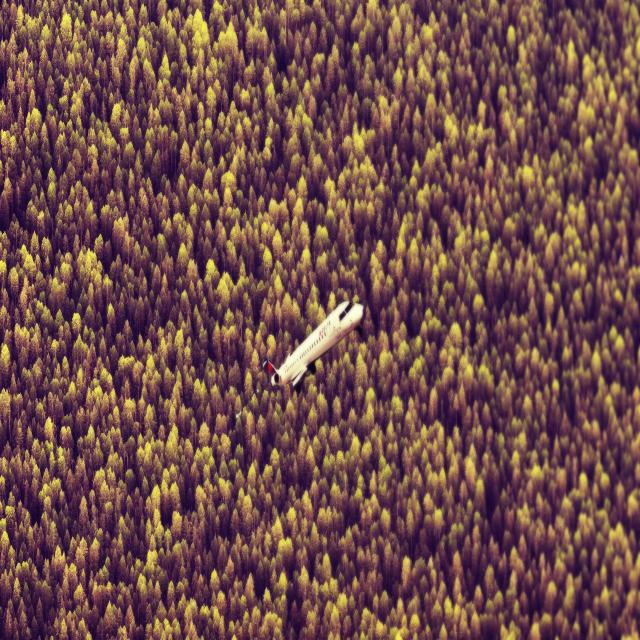airplane: (262, 298, 364, 394)
